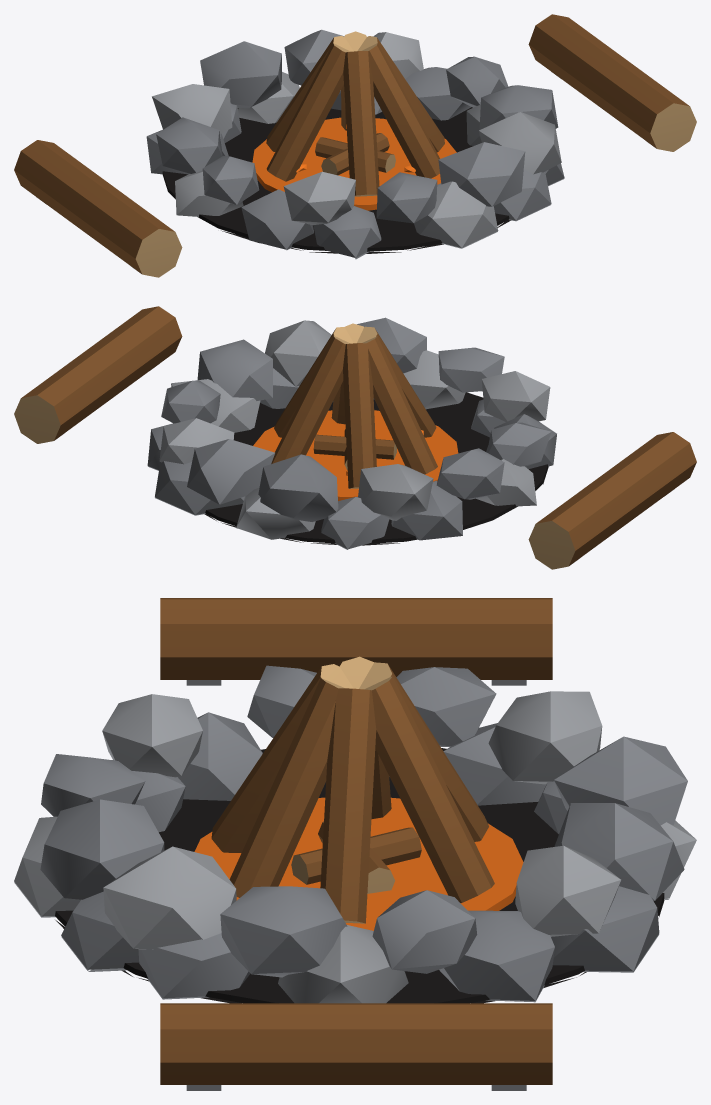
The model's file is campfire_3.glb.
3 renders of one model, top to bottom at view 1: azimuth 30°, elevation 25°; view 2: azimuth 150°, elevation 25°; view 3: azimuth 270°, elevation 25°, orthographic. The views are drawn at different scales.
Visible parts, largest first — view 1: campfire_3; view 2: campfire_3; view 3: campfire_3.
Part boxes in pixels (<box>): campfire_3: <box>14,14,696,277</box>; campfire_3: <box>14,306,696,569</box>; campfire_3: <box>14,598,696,1090</box>.
Bounding box in the file's own units: 4.8 × 1.07 × 3.13.
